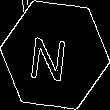N_N: (33, 28, 77, 82)
